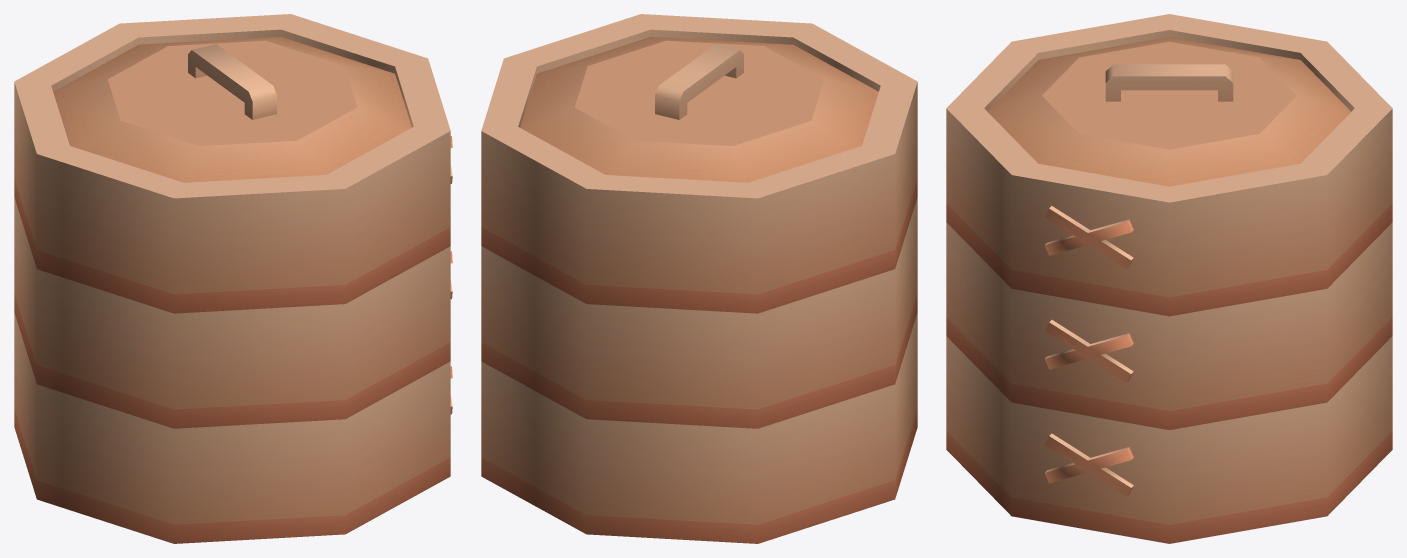
File: steamer.glb
3 views of the same model, side by side, from view 1: azimuth 30°, elevation 25°; view 2: azimuth 150°, elevation 25°; view 3: azimuth 270°, elevation 25° (orthographic).
Parts seen in each view (by area): view 1: layer (×3), lid; view 2: layer (×3), lid; view 3: layer (×3), lid.
Boxes of the visible parts, x1,y1,x2,y2 form: layer (×3): [14, 14, 452, 543]; lid: [53, 36, 411, 182]; layer (×3): [481, 14, 917, 543]; lid: [520, 36, 878, 182]; layer (×3): [946, 14, 1392, 543]; lid: [988, 37, 1350, 186].
Size of the model in its own units: 0.64 by 0.6 by 0.64.
1 material, 1 textured.
